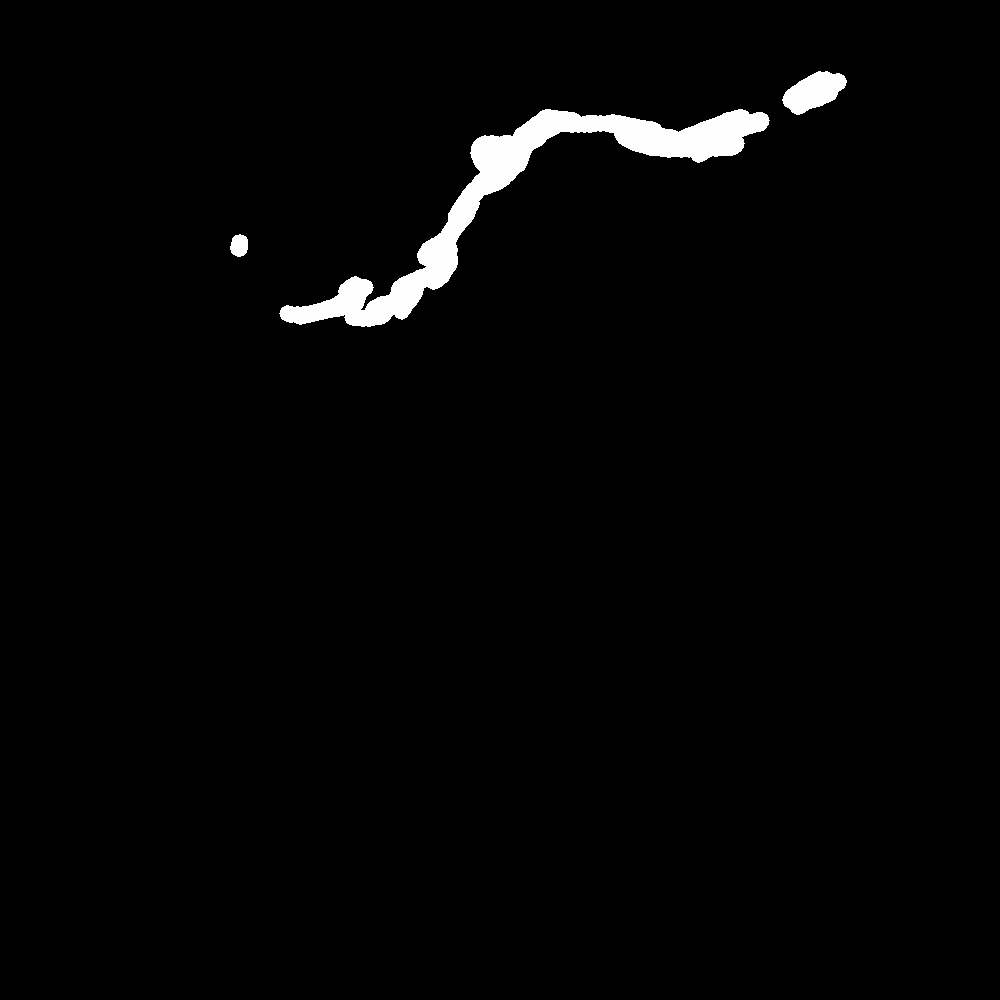illegal: (351, 113, 541, 330), (542, 81, 844, 158), (262, 285, 371, 321), (215, 227, 259, 264), (1, 250, 24, 281)
